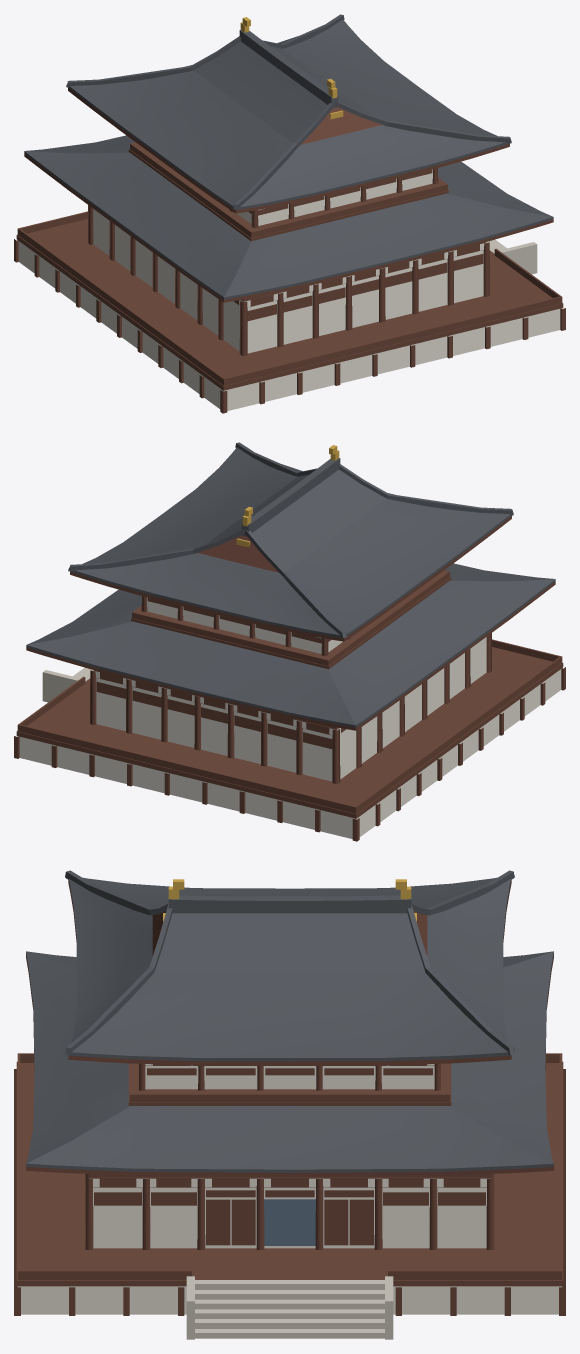
The model's file is tokyo-zojoji.glb.
3 renders of one model, top to bottom at view 1: azimuth 30°, elevation 25°; view 2: azimuth 150°, elevation 25°; view 3: azimuth 270°, elevation 25°, orthographic. The views are drawn at different scales.
Visible parts, largest first — view 1: Zōjō-ji Daiden; view 2: Zōjō-ji Daiden; view 3: Zōjō-ji Daiden.
Boxes of the visible parts, x1,y1,x2,y2 form: Zōjō-ji Daiden: (14,14,565,413); Zōjō-ji Daiden: (14,442,565,841); Zōjō-ji Daiden: (14,870,565,1339).
Size of the model in its own units: 54.85 by 33.9 by 52.3.
